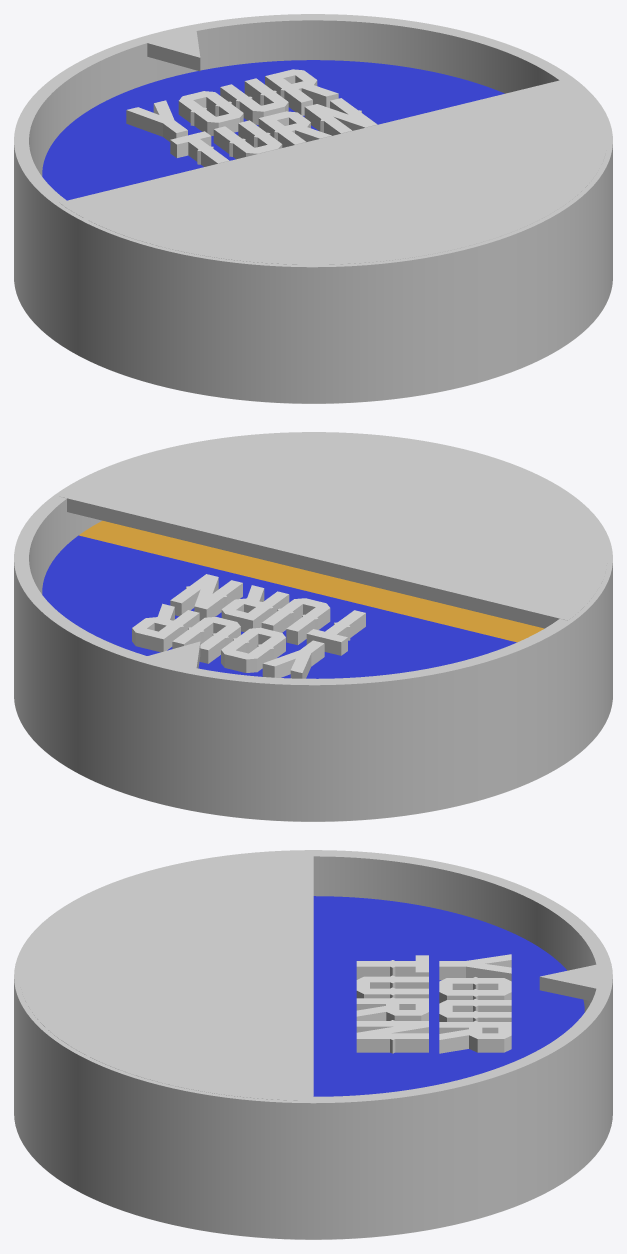
The model's file is TurnClock.fbx.
3 views of the same model, one above another, from view 1: azimuth 30°, elevation 25°; view 2: azimuth 150°, elevation 25°; view 3: azimuth 270°, elevation 25° (orthographic).
Visible parts, largest first — view 1: Outside, Inside, Text, Cube; view 2: Outside, Inside, Text, Cube; view 3: Outside, Inside, Text, Cube.
Part boxes in pixels (<box>): Outside: <box>14,14,612,403</box>; Inside: <box>42,60,504,200</box>; Text: <box>126,69,377,166</box>; Cube: <box>144,29,200,71</box>; Outside: <box>14,432,612,821</box>; Inside: <box>42,520,544,678</box>; Text: <box>132,574,365,678</box>; Cube: <box>146,641,200,669</box>; Outside: <box>14,850,612,1239</box>; Inside: <box>313,896,584,1096</box>; Text: <box>356,954,511,1053</box>; Cube: <box>539,964,599,1001</box>.
Bounding box in the file's own units: 397 × 100 × 397.
